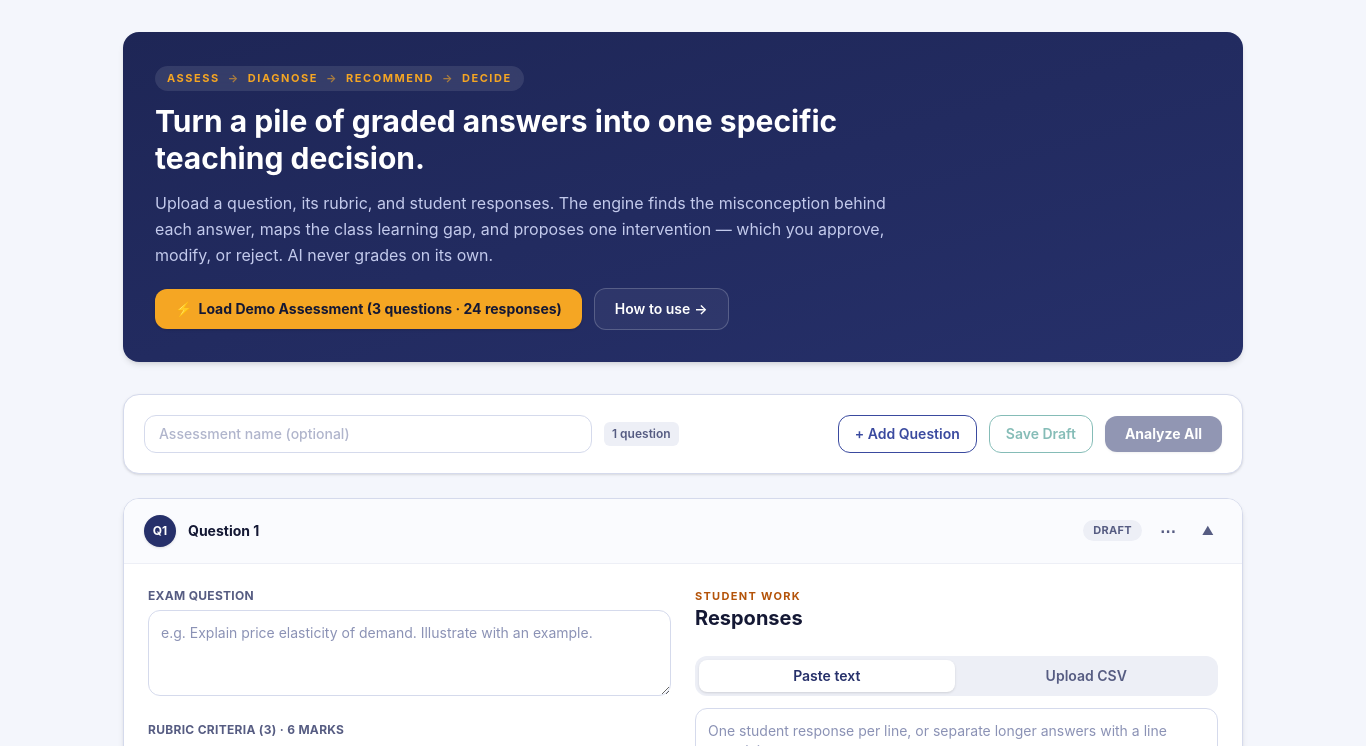
Test case: AssessmentWorkspace — question actions › cannot delete the final question
The width and height of the screenshot is (1366, 746).
# Only one question — open action menu
Click the button "⋯" at (1168, 530), box [1154,512,1182,548]
(page scrolled)
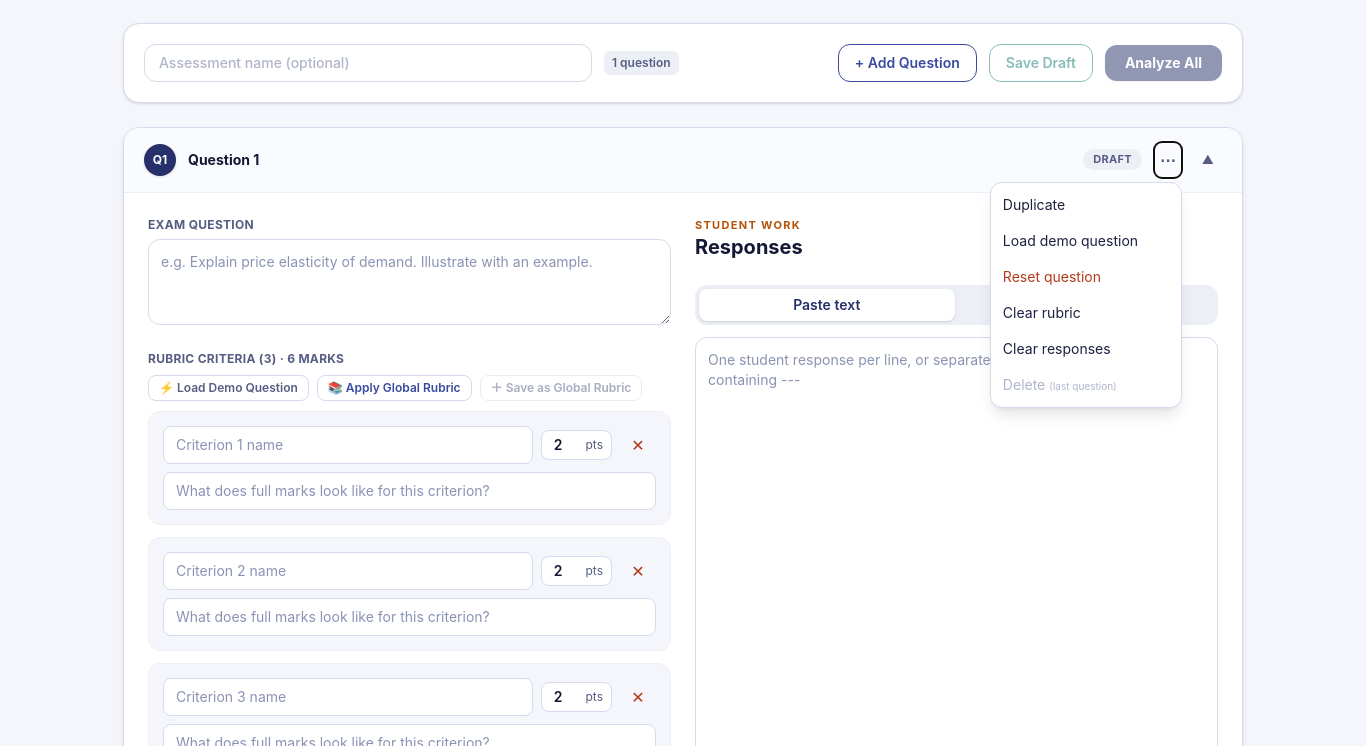
Expected: the button "Delete(last question)" is disabled, [991,366,1181,402]
